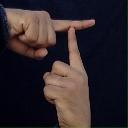hand: (42, 26, 92, 127), (3, 6, 95, 60)
